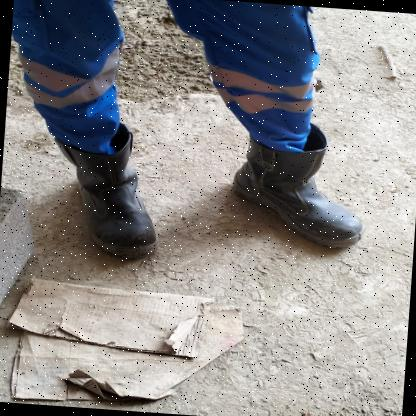bota: (227, 120, 375, 252), (36, 130, 168, 260)
